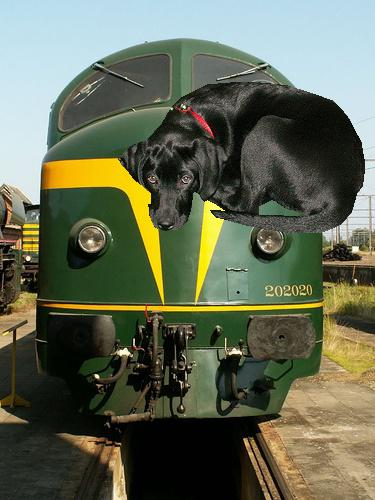tampered: (119, 83, 365, 233)
